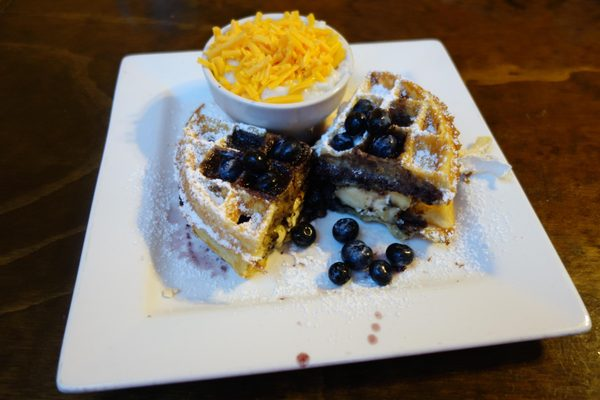sushi: (197, 9, 355, 135)
